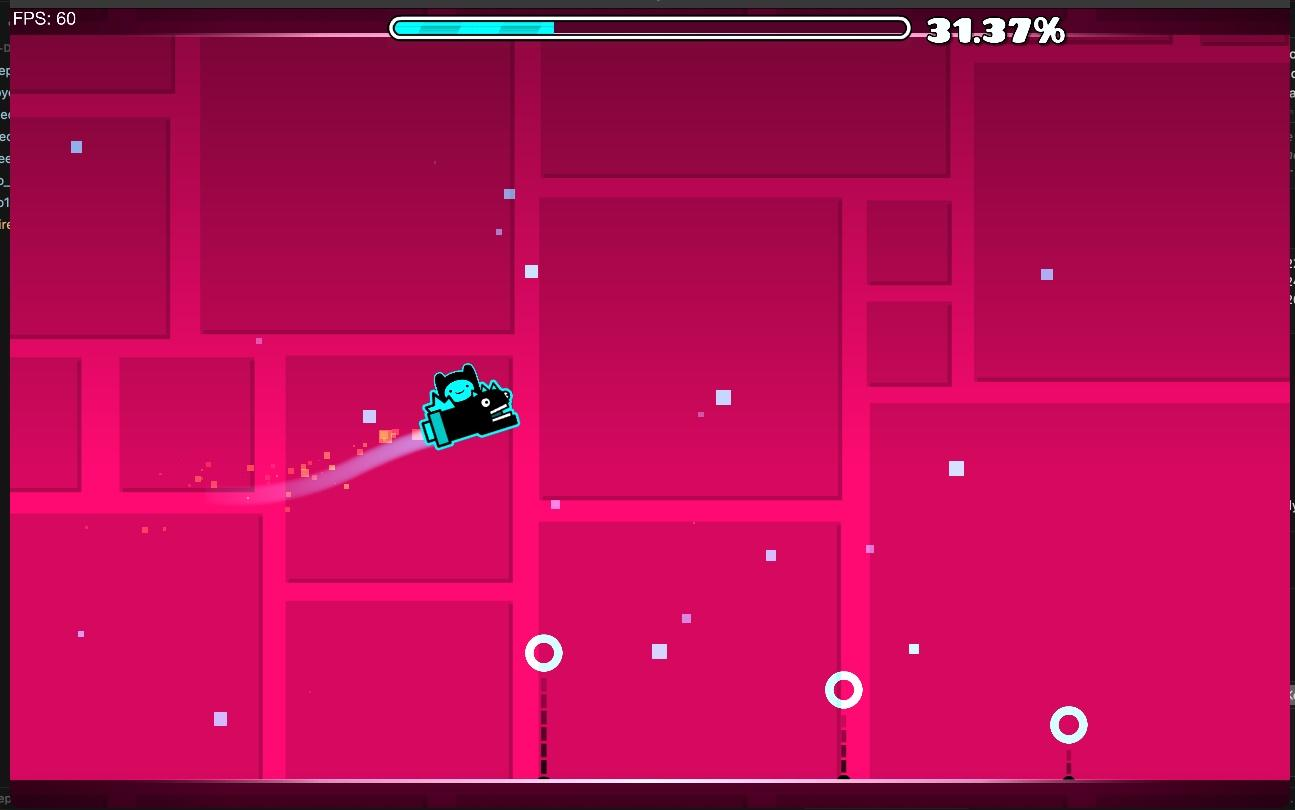spaceship: (419, 363, 519, 449)
